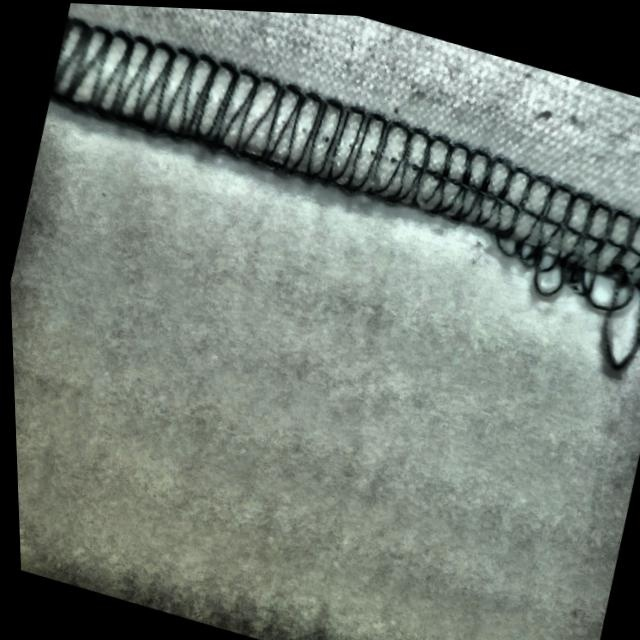Stitch: (460, 151, 640, 403)
